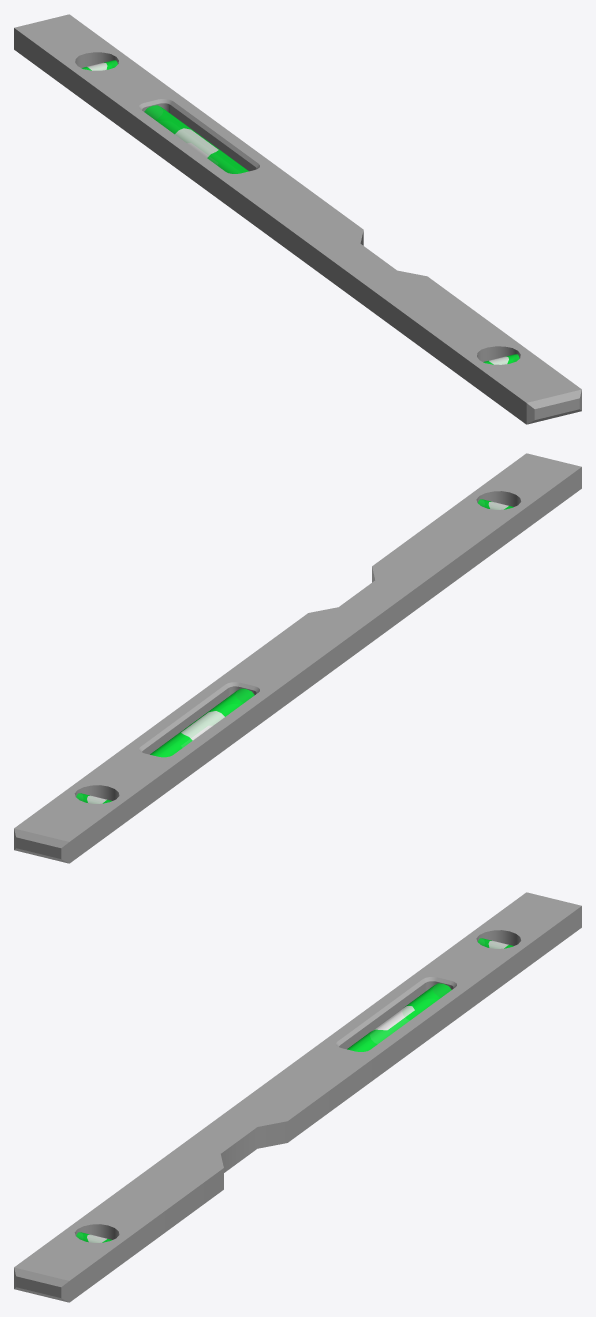
Rendered from Level_weapon.fbx.
The picture shows the model from 3 angles, top to bottom: view 1: azimuth 30°, elevation 25°; view 2: azimuth 150°, elevation 25°; view 3: azimuth 330°, elevation 25°; orthographic projection.
Parts seen in each view (by area): view 1: Level_weapon; view 2: Level_weapon; view 3: Level_weapon.
Boxes of the visible parts, x1,y1,x2,y2 form: Level_weapon: (14,14,581,424); Level_weapon: (14,453,581,863); Level_weapon: (14,892,581,1302).
Size of the model in its own units: 12 by 4.5 by 194.
